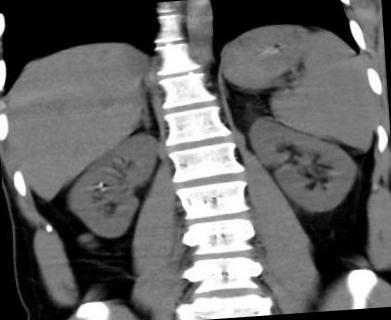Tas_Var: (97, 180, 103, 186)
